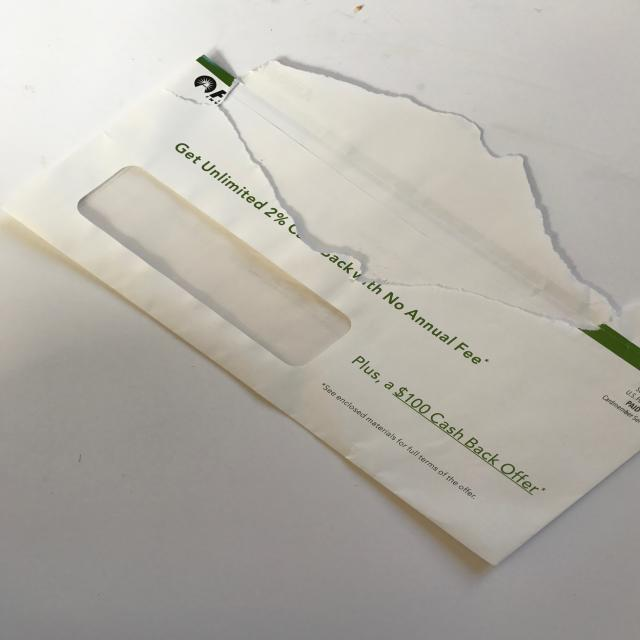paper: (0, 33, 640, 601)
